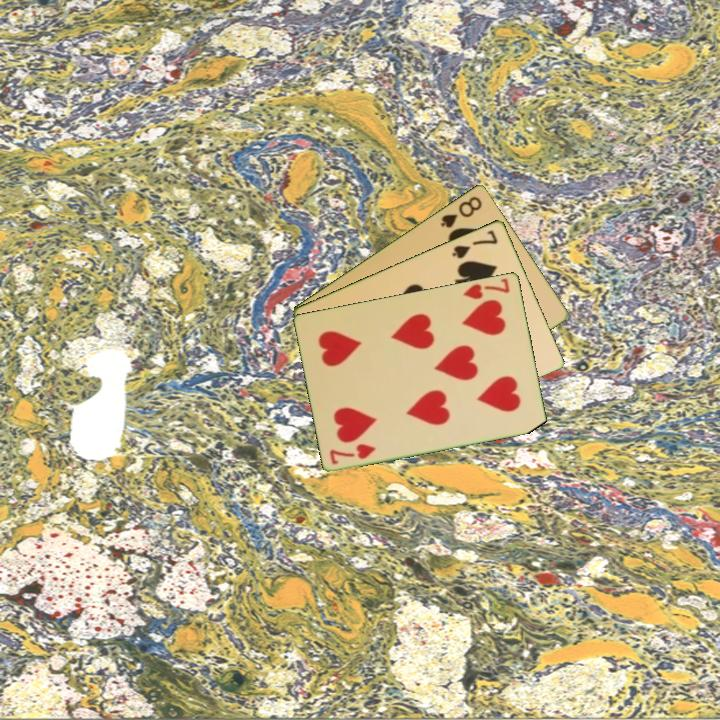7h: (460, 274, 513, 302), (326, 440, 379, 467)
7s: (448, 226, 501, 261)
8s: (437, 192, 485, 231)
